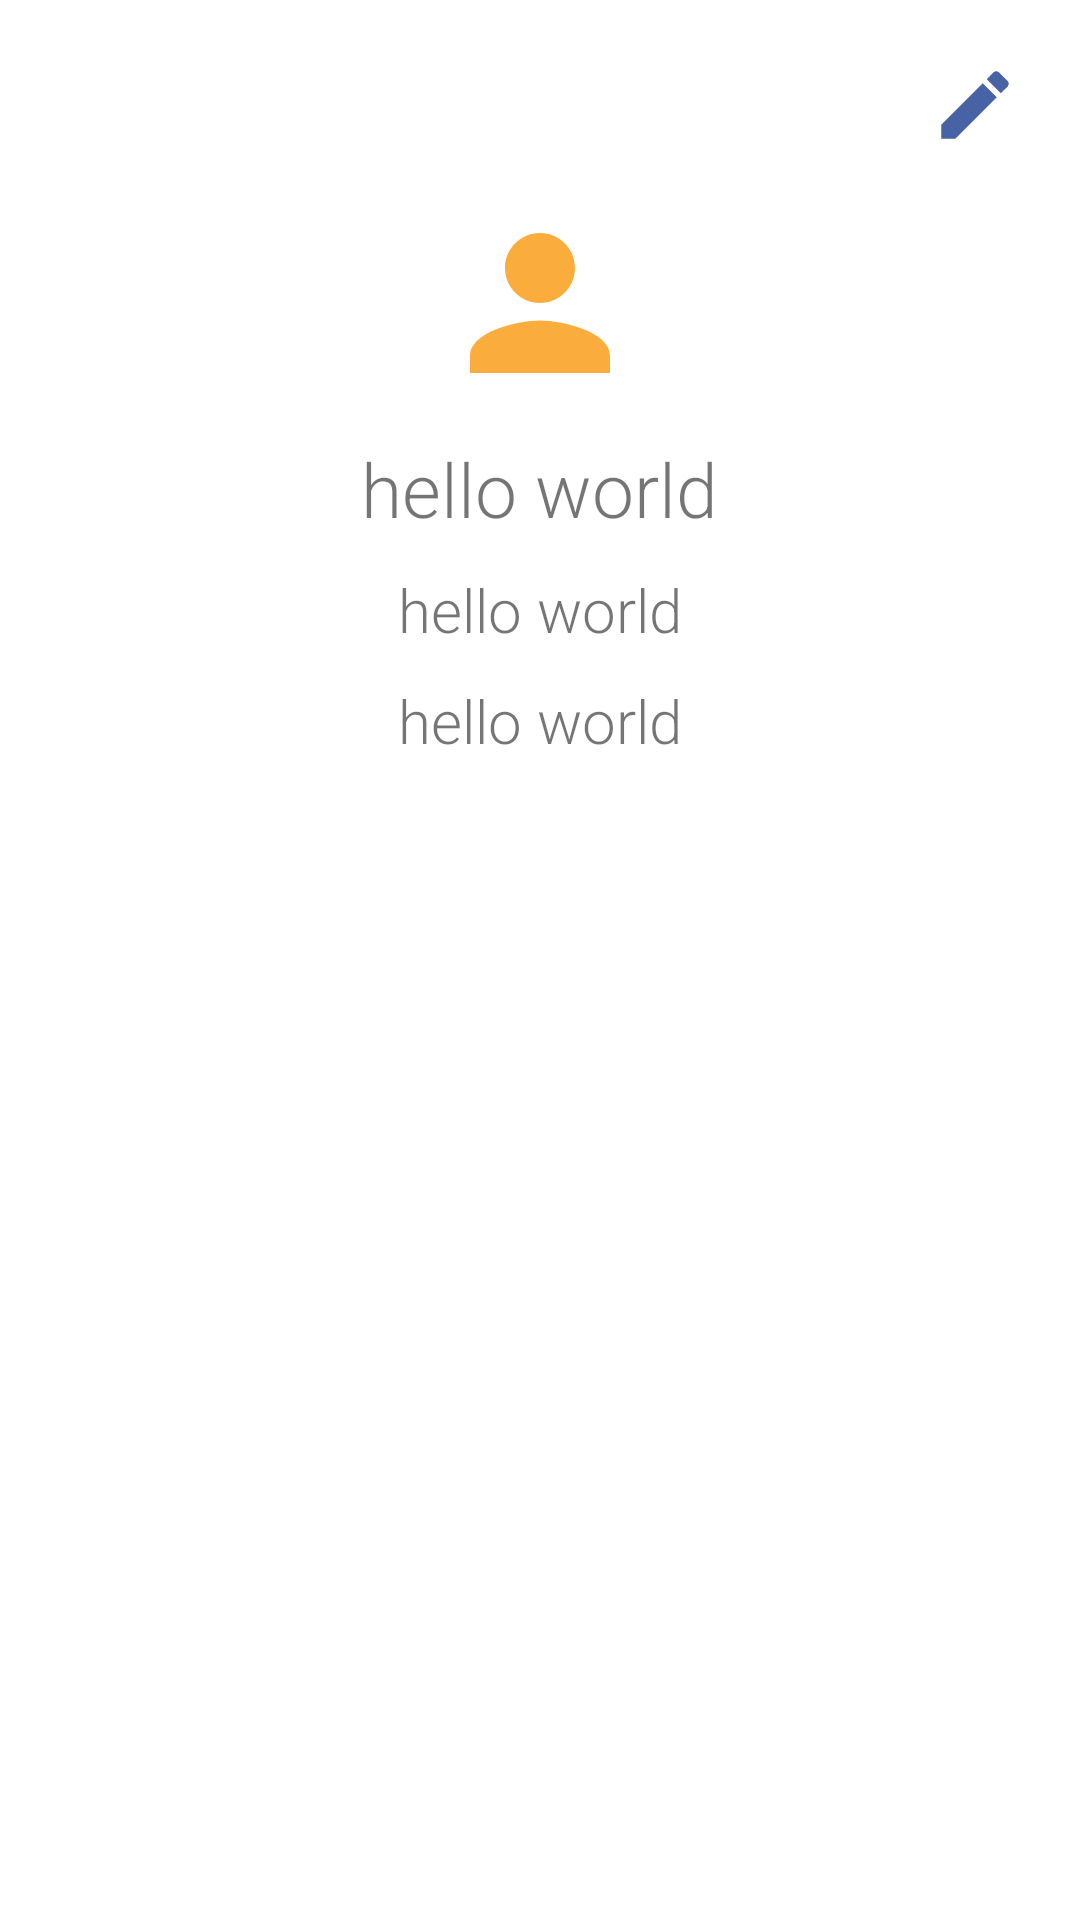

Screen size 1080 × 1920. Icon name, then its center in pixels as (x=x, y=y):
edituserimg: (x=975, y=105)
person: (x=540, y=303)
